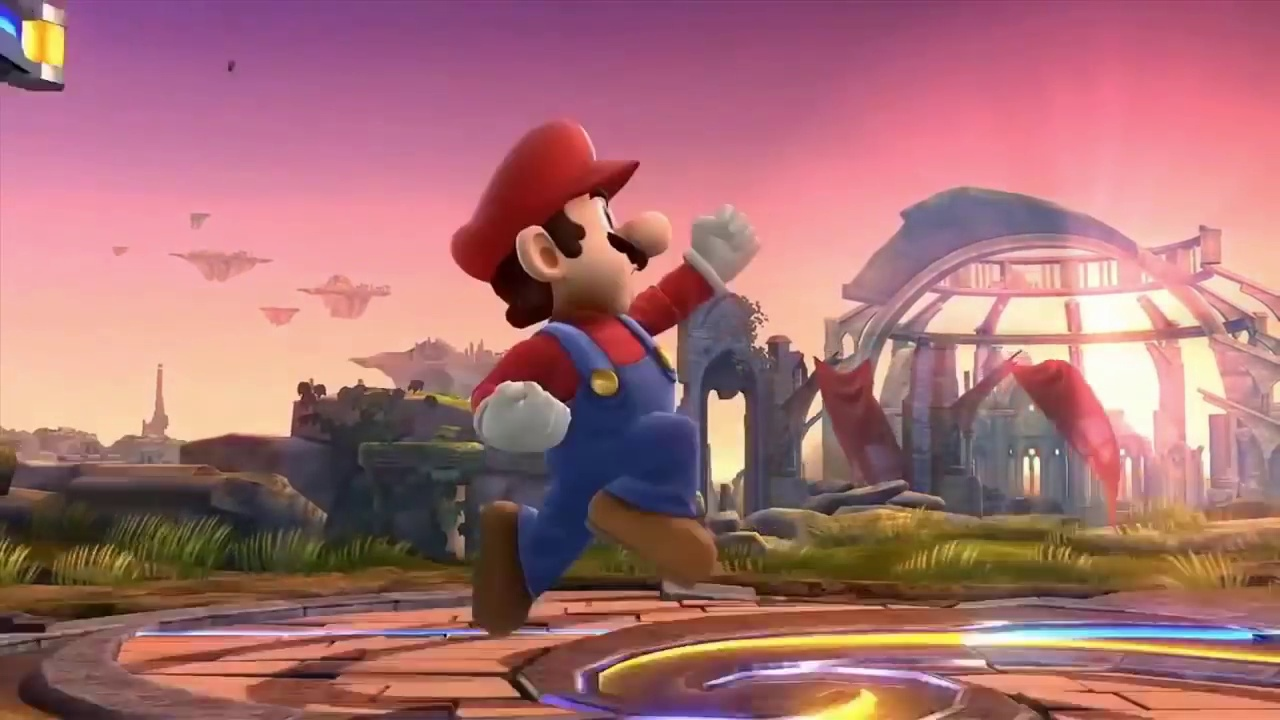Mario: (449, 120, 760, 640)
